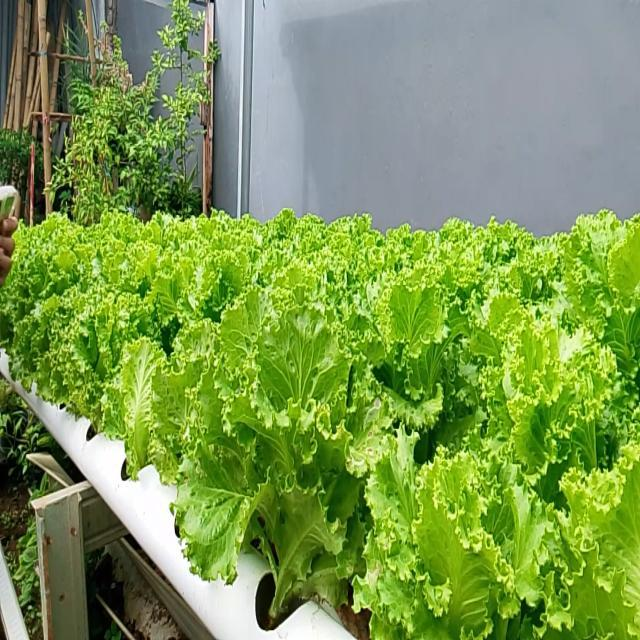Mature: (0, 210, 640, 639), (160, 303, 380, 634), (38, 287, 145, 450)
